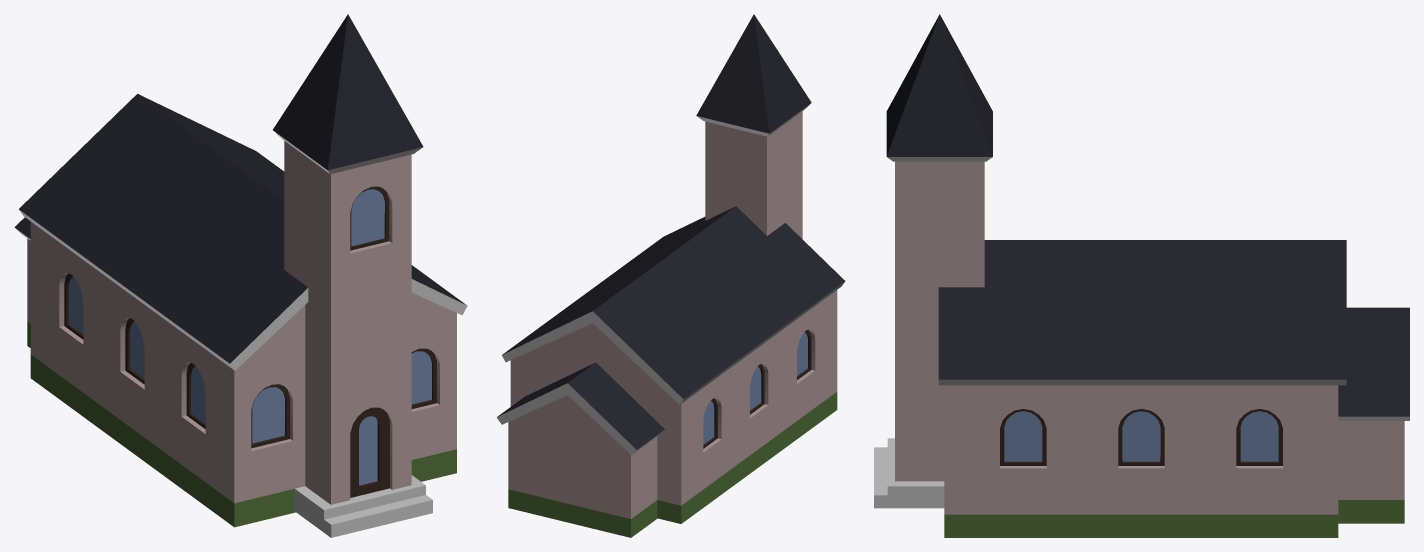
File: Church_01.fbx
3 renders of one model, left to right at view 1: azimuth 30°, elevation 25°; view 2: azimuth 150°, elevation 25°; view 3: azimuth 270°, elevation 25°, orthographic. The views are drawn at different scales.
Visible parts, largest first — view 1: Church_01; view 2: Church_01; view 3: Church_01.
Part boxes in pixels (left/top/right/bottom): Church_01: left=14, top=14, right=467, bottom=537; Church_01: left=496, top=14, right=845, bottom=537; Church_01: left=874, top=14, right=1409, bottom=537.
Bounding box in the file's own units: 8.94 × 17.56 × 18.07.
